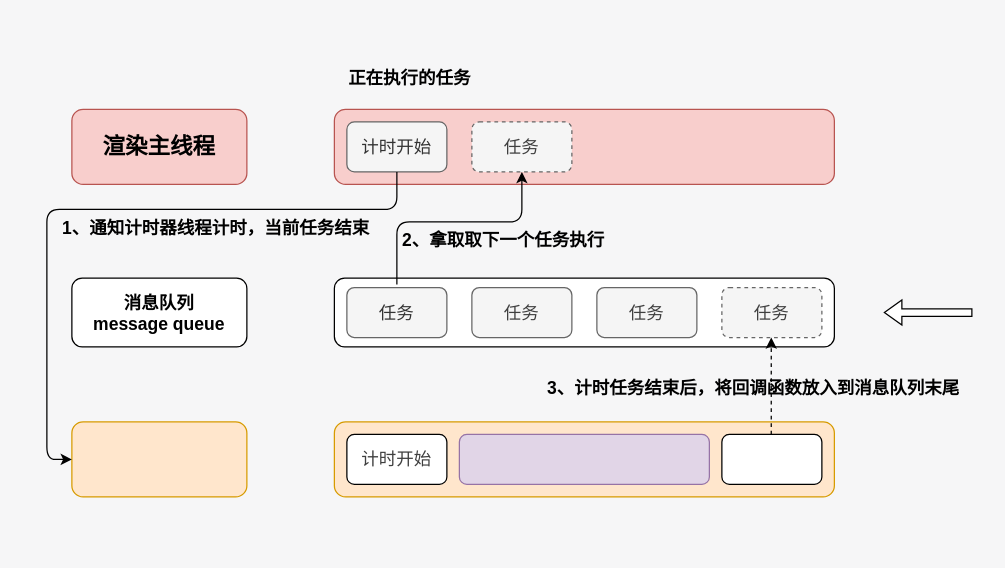
This 1005x568 diagram has some shape labels left out. Each missing label, with the box of its shape:
计时中...: (458, 433, 709, 484)
计时线程: (71, 421, 247, 497)
计时结束: (721, 433, 822, 484)
